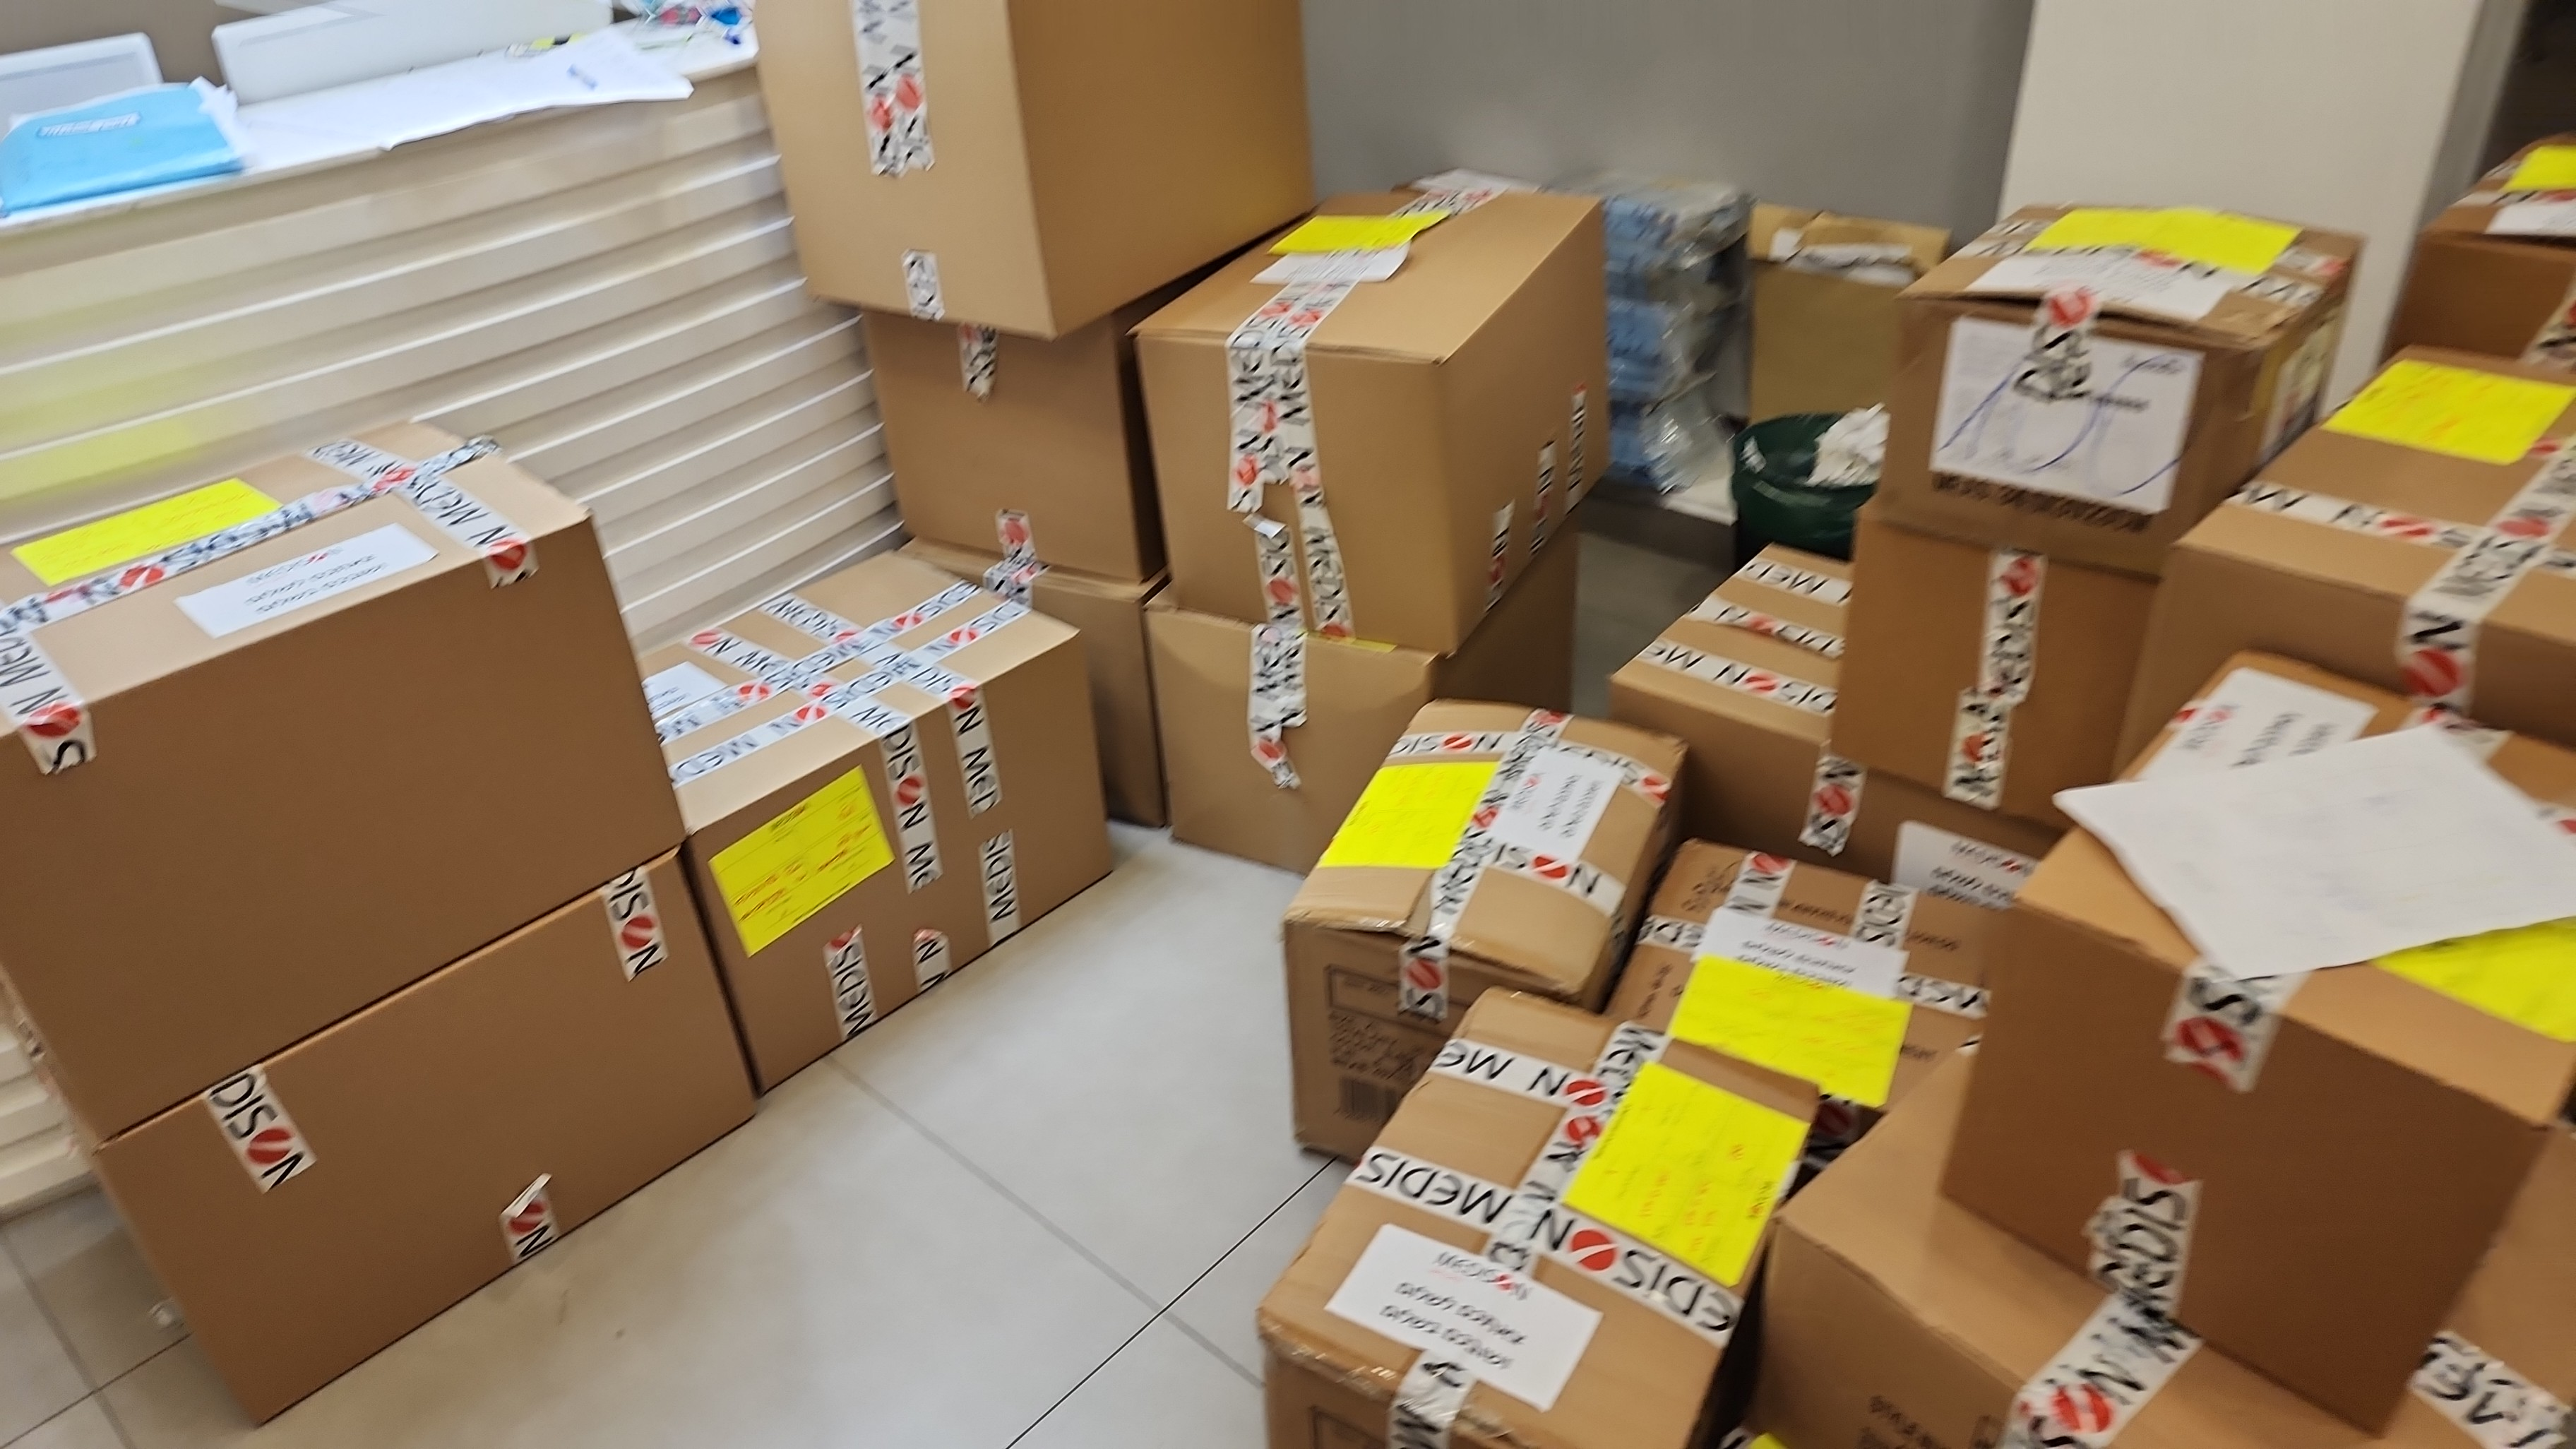box: (2019, 591, 2555, 1330), (28, 483, 711, 952), (1132, 133, 1619, 669), (1253, 968, 1785, 1438), (626, 605, 1173, 1056), (96, 1051, 832, 1345), (1304, 633, 1675, 1106), (1879, 175, 2261, 580), (1828, 472, 2215, 847), (1589, 508, 1927, 870), (817, 258, 1184, 587)
